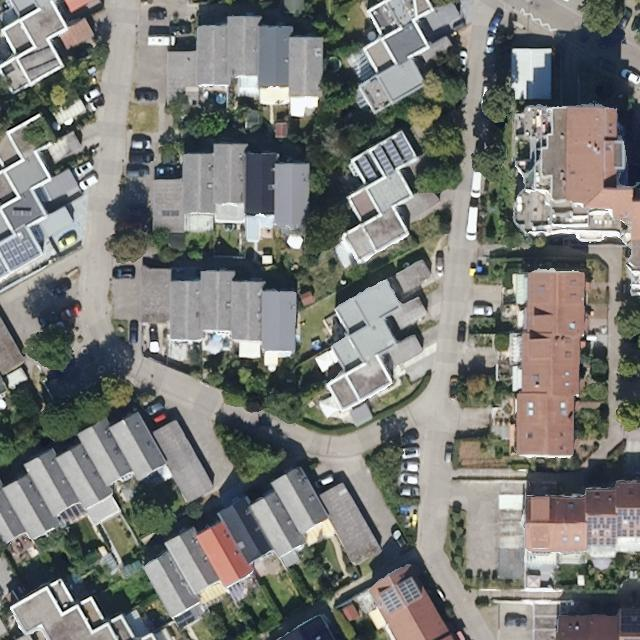PV: (370, 133, 418, 181), (376, 574, 424, 618), (0, 235, 39, 280), (585, 516, 618, 548), (617, 507, 639, 537), (355, 155, 379, 182), (620, 604, 639, 635)
